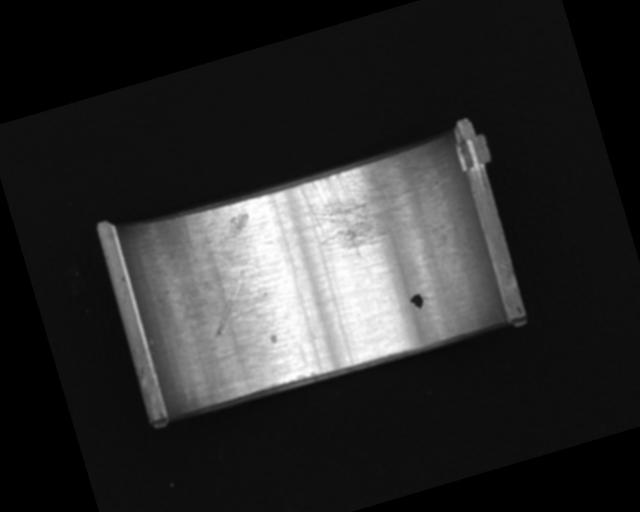blot: (407, 292, 426, 312)
bruise: (222, 210, 254, 240), (268, 332, 279, 346)
nick: (200, 268, 257, 336)
scratch: (297, 147, 447, 268)
